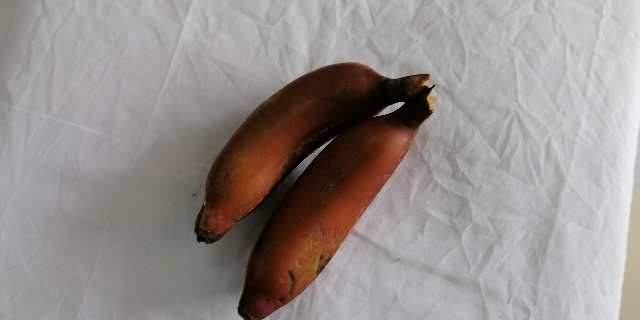banana_red: (238, 88, 432, 320), (193, 60, 430, 243)
